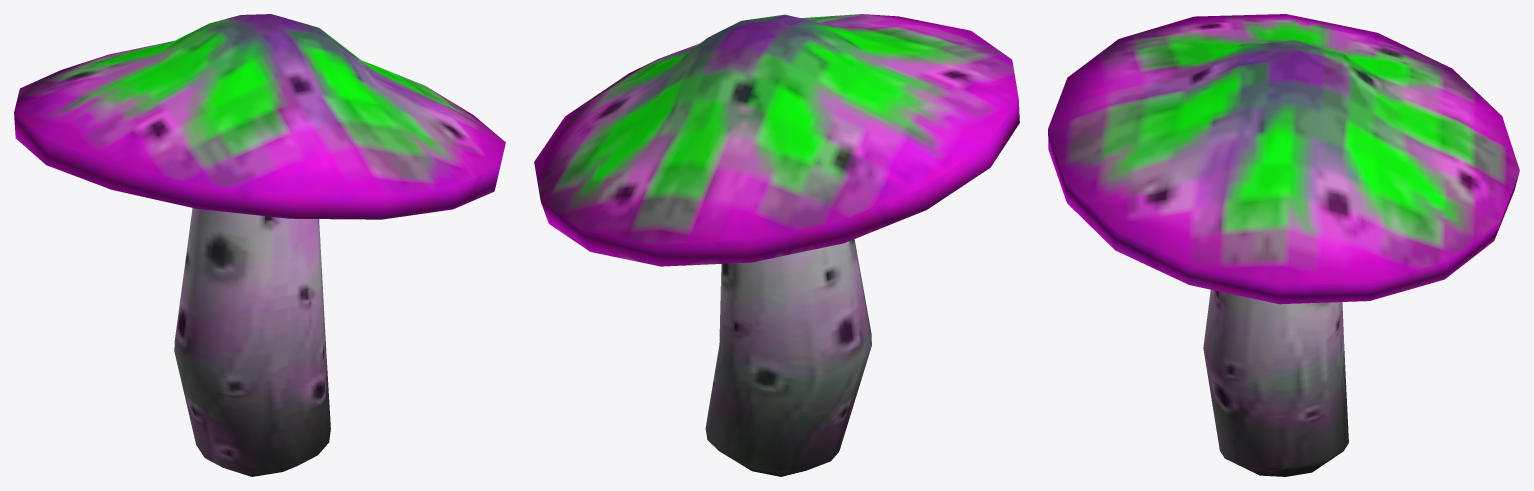
File: INST_TROLLHOLE_SHROOMPOISON.fbx
3 views of the same model, side by side, from view 1: azimuth 30°, elevation 25°; view 2: azimuth 150°, elevation 25°; view 3: azimuth 270°, elevation 25° (orthographic). The views are drawn at different scales.
Visible parts, largest first — view 1: INST_TROLLHOLE_SHROOMPOISON; view 2: INST_TROLLHOLE_SHROOMPOISON; view 3: INST_TROLLHOLE_SHROOMPOISON.
Part boxes in pixels (x1,y1,x2,y2): INST_TROLLHOLE_SHROOMPOISON: (14, 14, 505, 476); INST_TROLLHOLE_SHROOMPOISON: (534, 14, 1019, 476); INST_TROLLHOLE_SHROOMPOISON: (1048, 14, 1519, 476).
Size of the model in its own units: 18728 by 18488 by 18852.
1 material, 1 textured.
